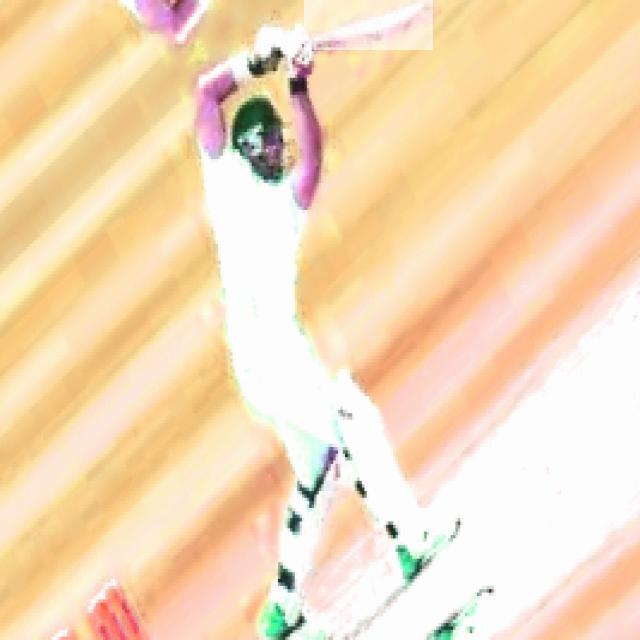bat: (306, 0, 433, 49)
